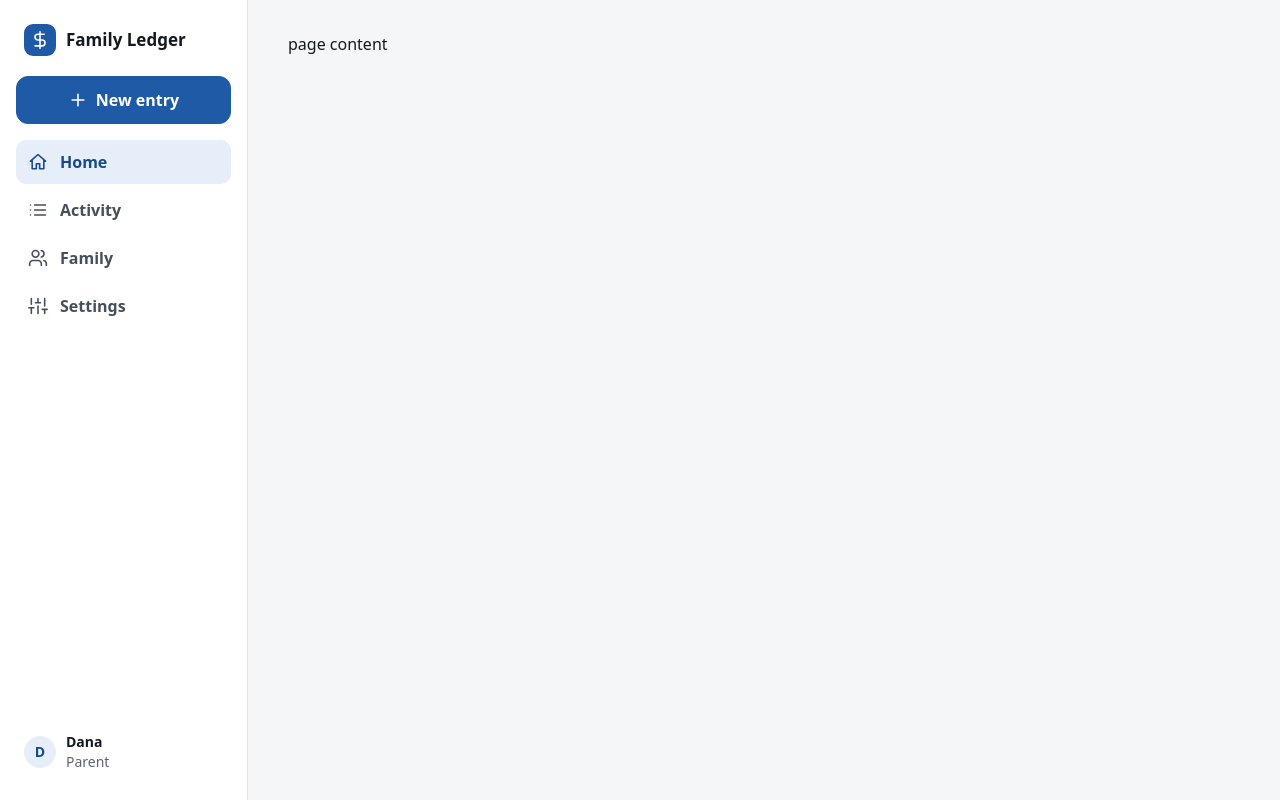
Scenario: AppShell "+" / New entry › opens the same sheet from the sidebar button
The width and height of the screenshot is (1280, 800).
Click the button "New entry" at (124, 100), box [16,76,231,124]
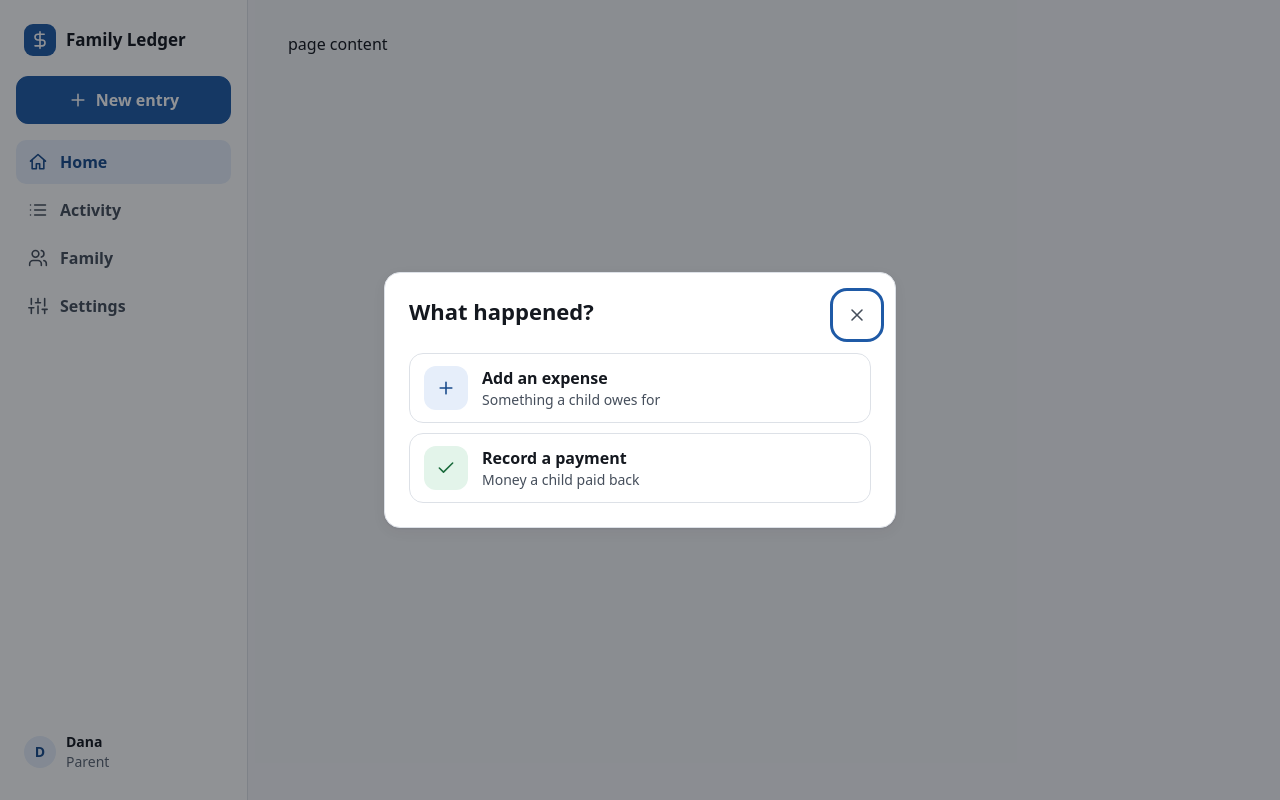
Check: the dialog "What happened?" is shown, box [384,272,896,528]
